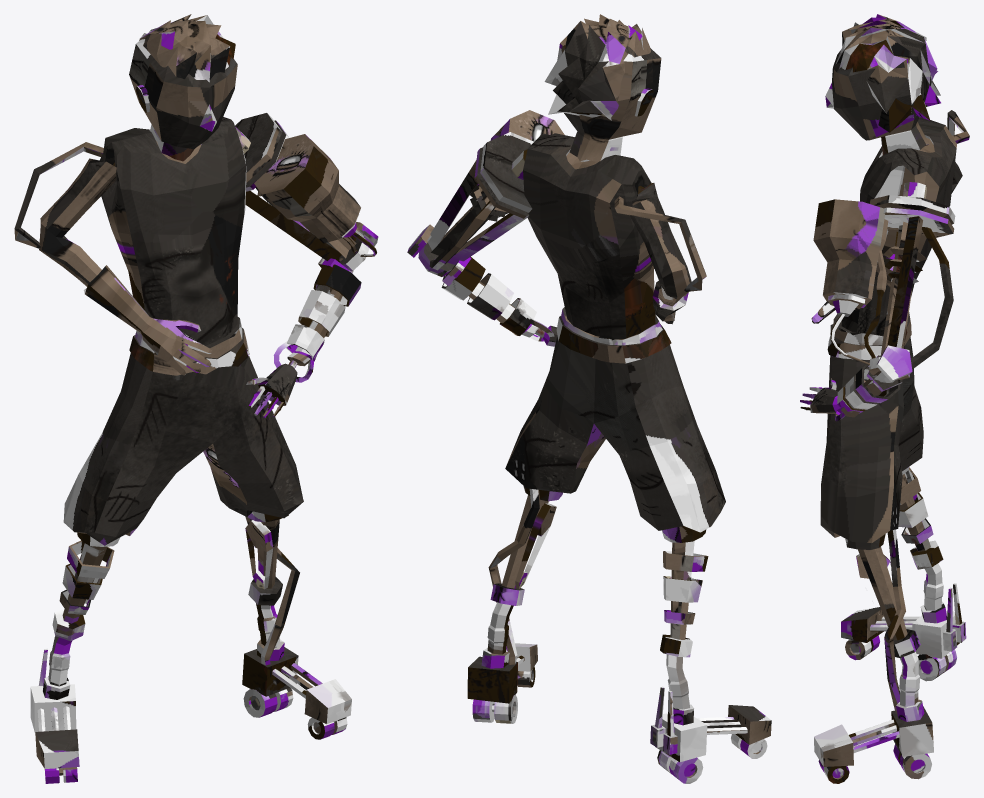
Rendered from CyborgFINALAnimation_000047.obj.
3 views of the same model, side by side, from view 1: azimuth 30°, elevation 25°; view 2: azimuth 150°, elevation 25°; view 3: azimuth 270°, elevation 25° (orthographic). The views are drawn at different scales.
Parts seen in each view (by area): view 1: CyborgMesh_Cube.002; view 2: CyborgMesh_Cube.002; view 3: CyborgMesh_Cube.002.
Boxes of the visible parts, left/top/right/bottom form: CyborgMesh_Cube.002: left=14, top=14, right=378, bottom=783; CyborgMesh_Cube.002: left=407, top=14, right=771, bottom=783; CyborgMesh_Cube.002: left=800, top=14, right=969, bottom=783.
Bounding box in the file's own units: 4.84 × 9.59 × 2.09.
